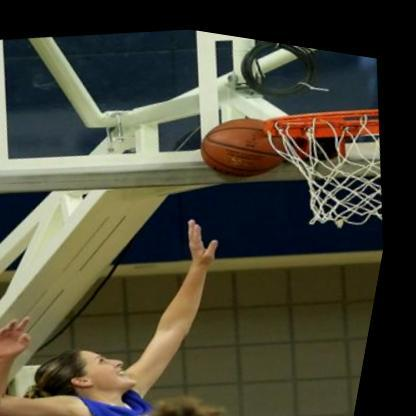basketball: (194, 96, 297, 185)
